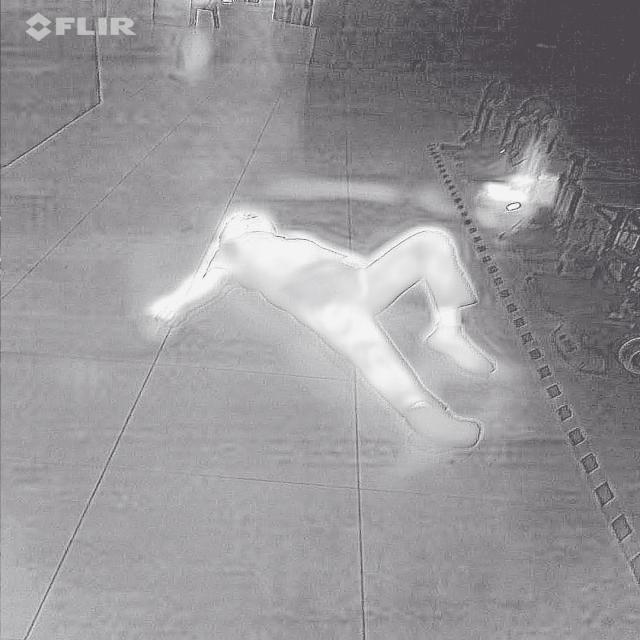Victim: (145, 208, 502, 456)
